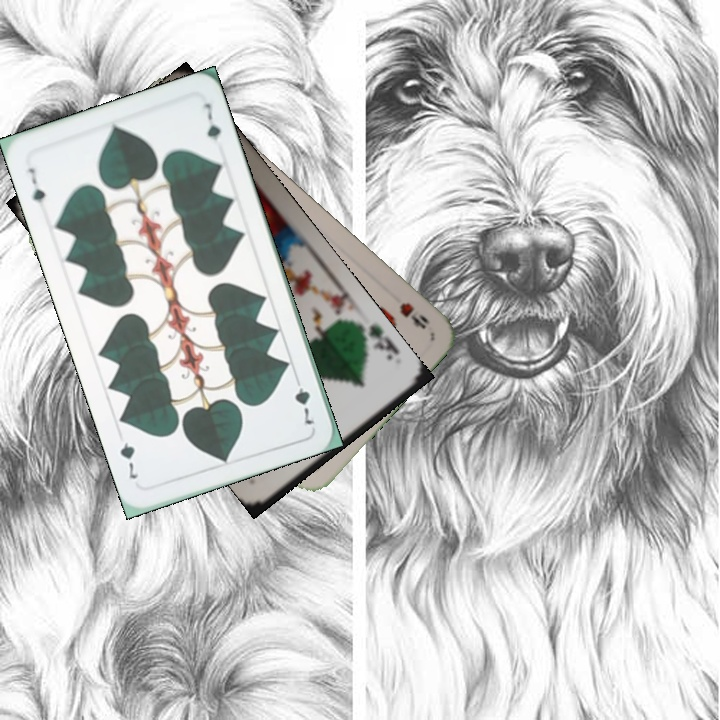G7: (290, 371, 317, 430), (24, 163, 48, 206)
GK: (358, 320, 402, 363)
H9: (395, 298, 431, 332)
